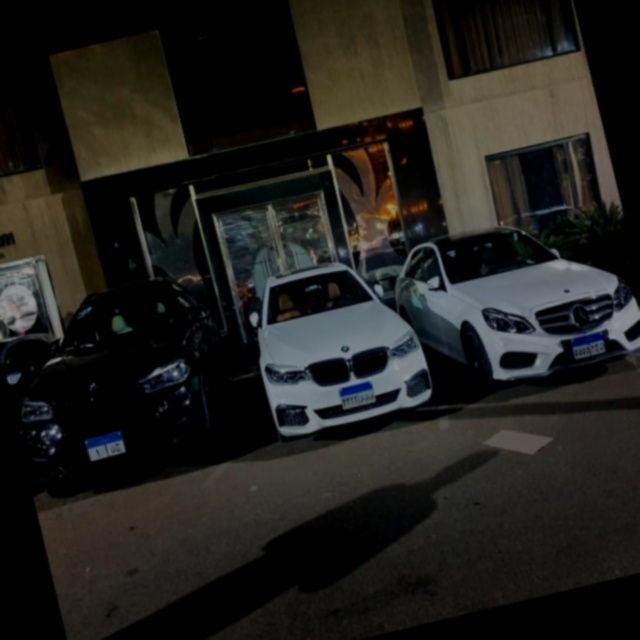License Plate: (83, 429, 128, 464), (337, 379, 378, 413), (569, 330, 608, 361)
